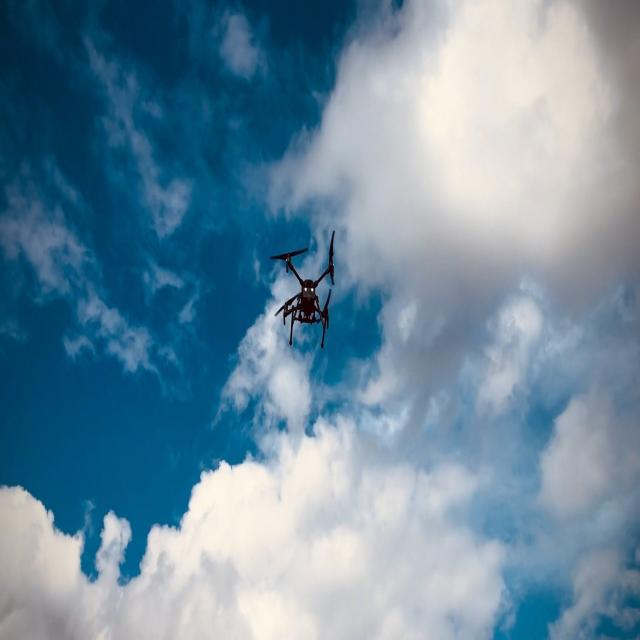drone: (270, 229, 336, 349)
